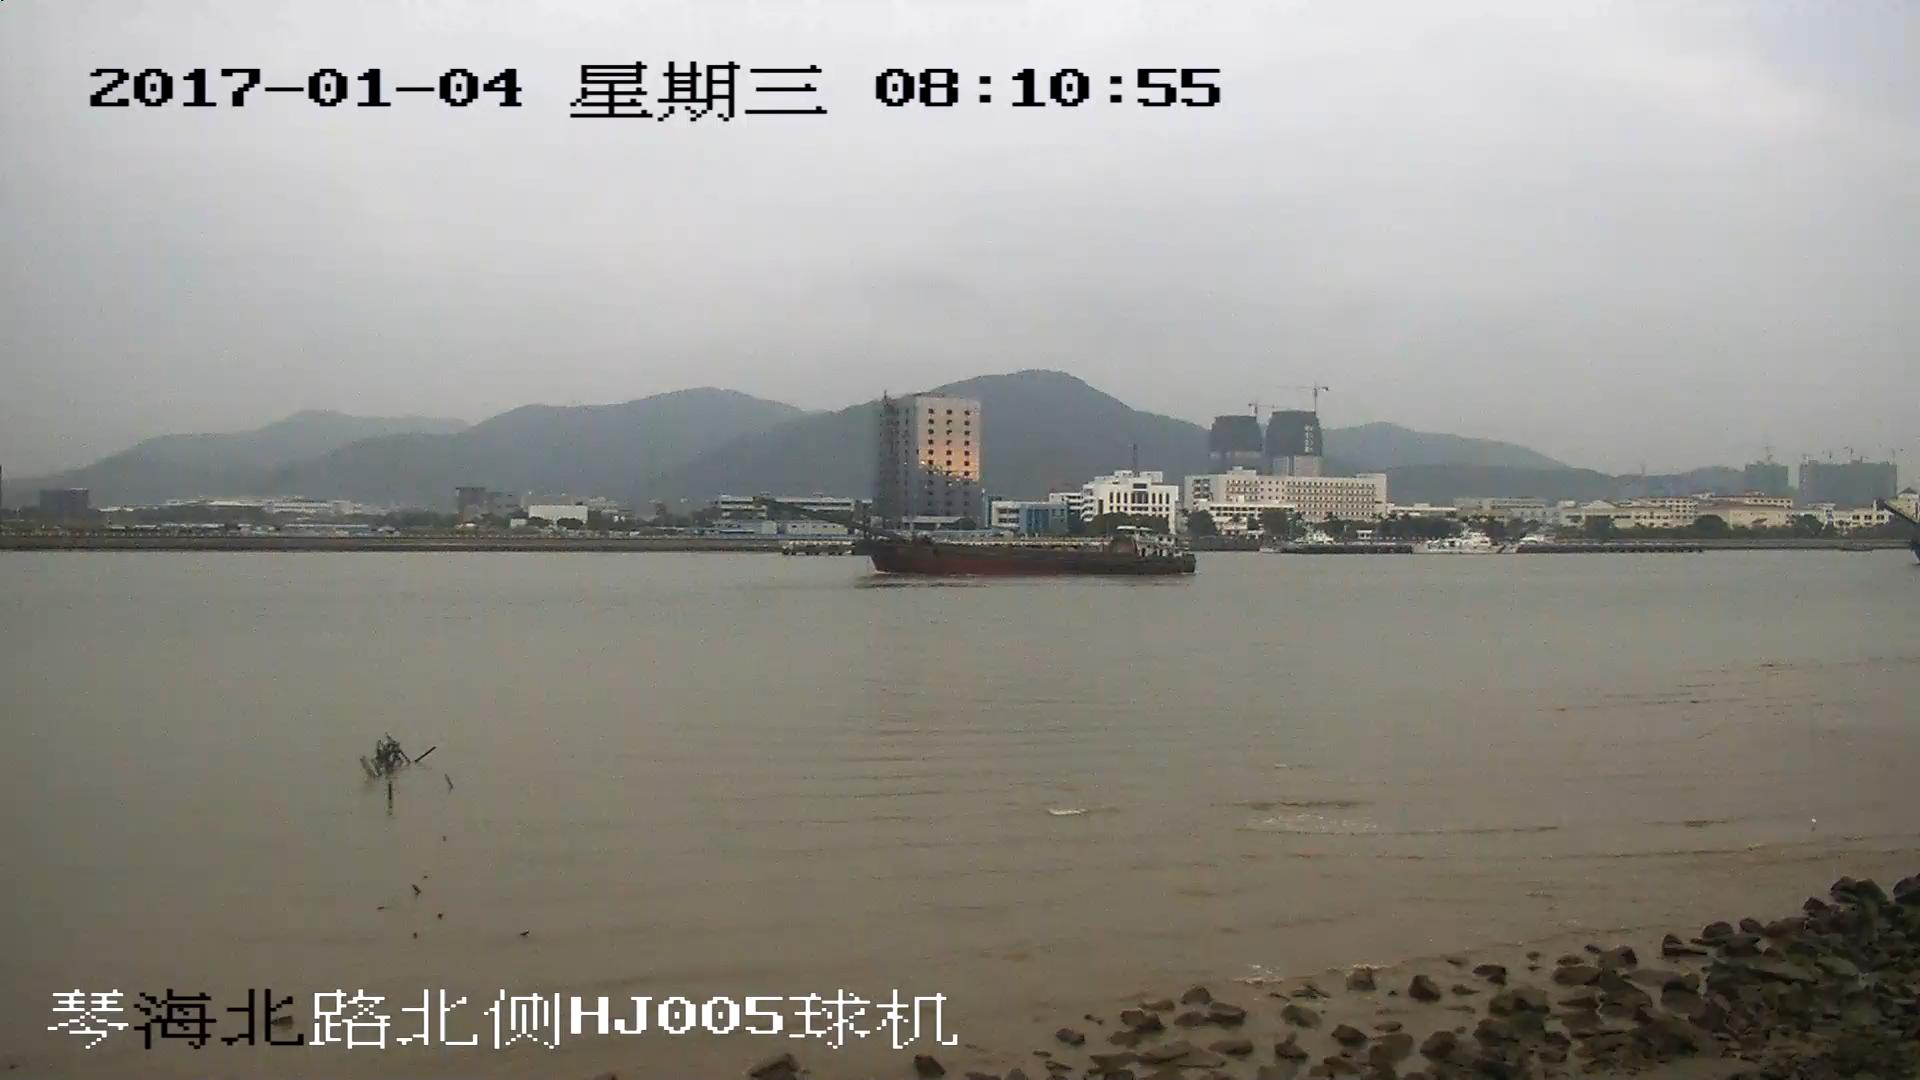bulk cargo carrier: (757, 498, 1196, 572)
